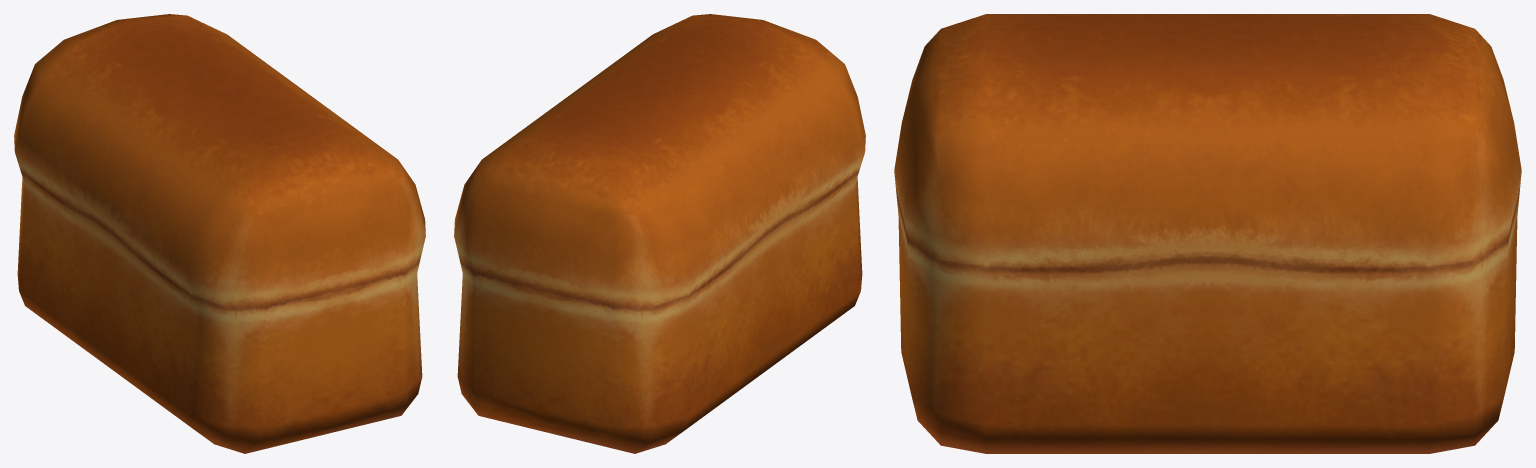
Rendered from Loaf.fbx.
3 views of the same model, side by side, from view 1: azimuth 30°, elevation 25°; view 2: azimuth 150°, elevation 25°; view 3: azimuth 270°, elevation 25° (orthographic). The views are drawn at different scales.
Visible parts, largest first — view 1: Loaf; view 2: Loaf; view 3: Loaf.
Boxes of the visible parts, x1=… form: Loaf: x1=14, y1=14, x2=425, y2=453; Loaf: x1=454, y1=14, x2=865, y2=453; Loaf: x1=894, y1=14, x2=1521, y2=453.
Bounding box in the file's own units: 39.11 × 43.39 × 68.56.
